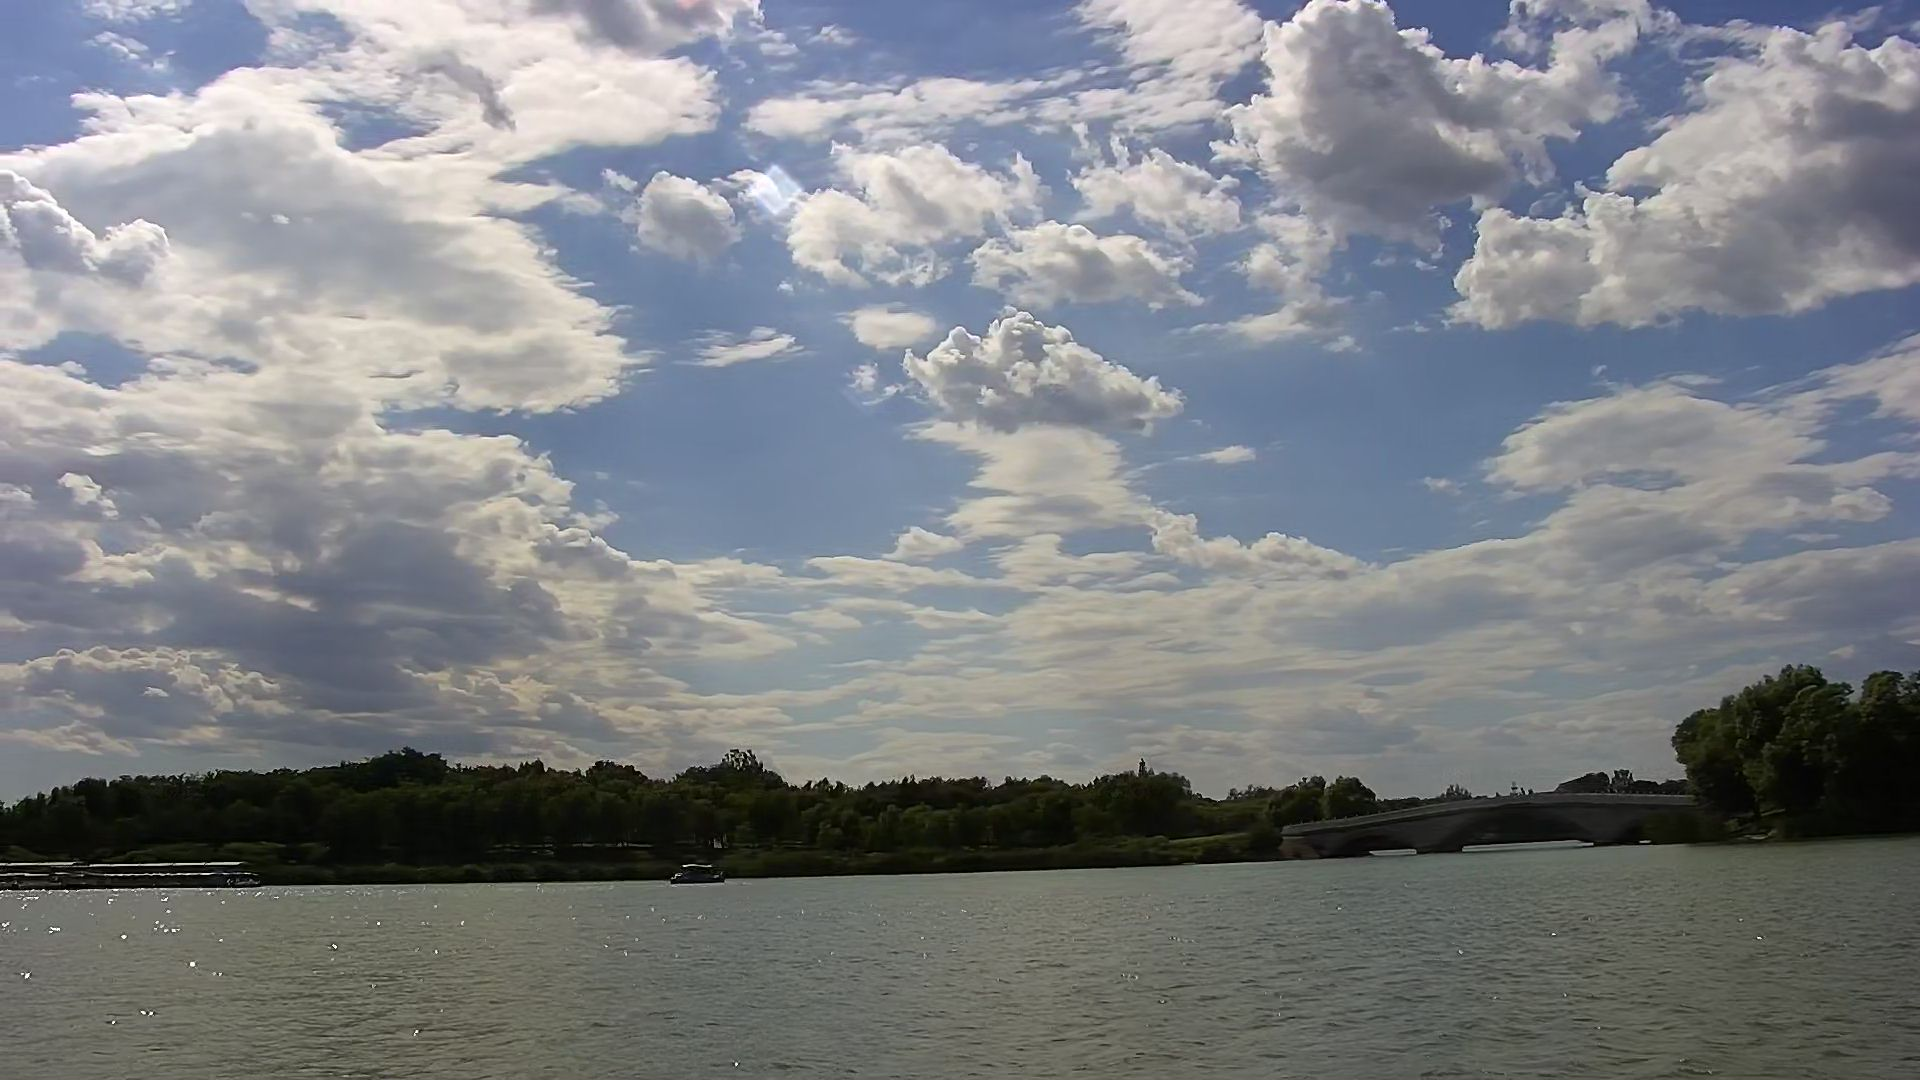boat: (665, 861, 723, 885)
bridge: (1288, 791, 1714, 851)
harbor: (3, 858, 232, 887)
